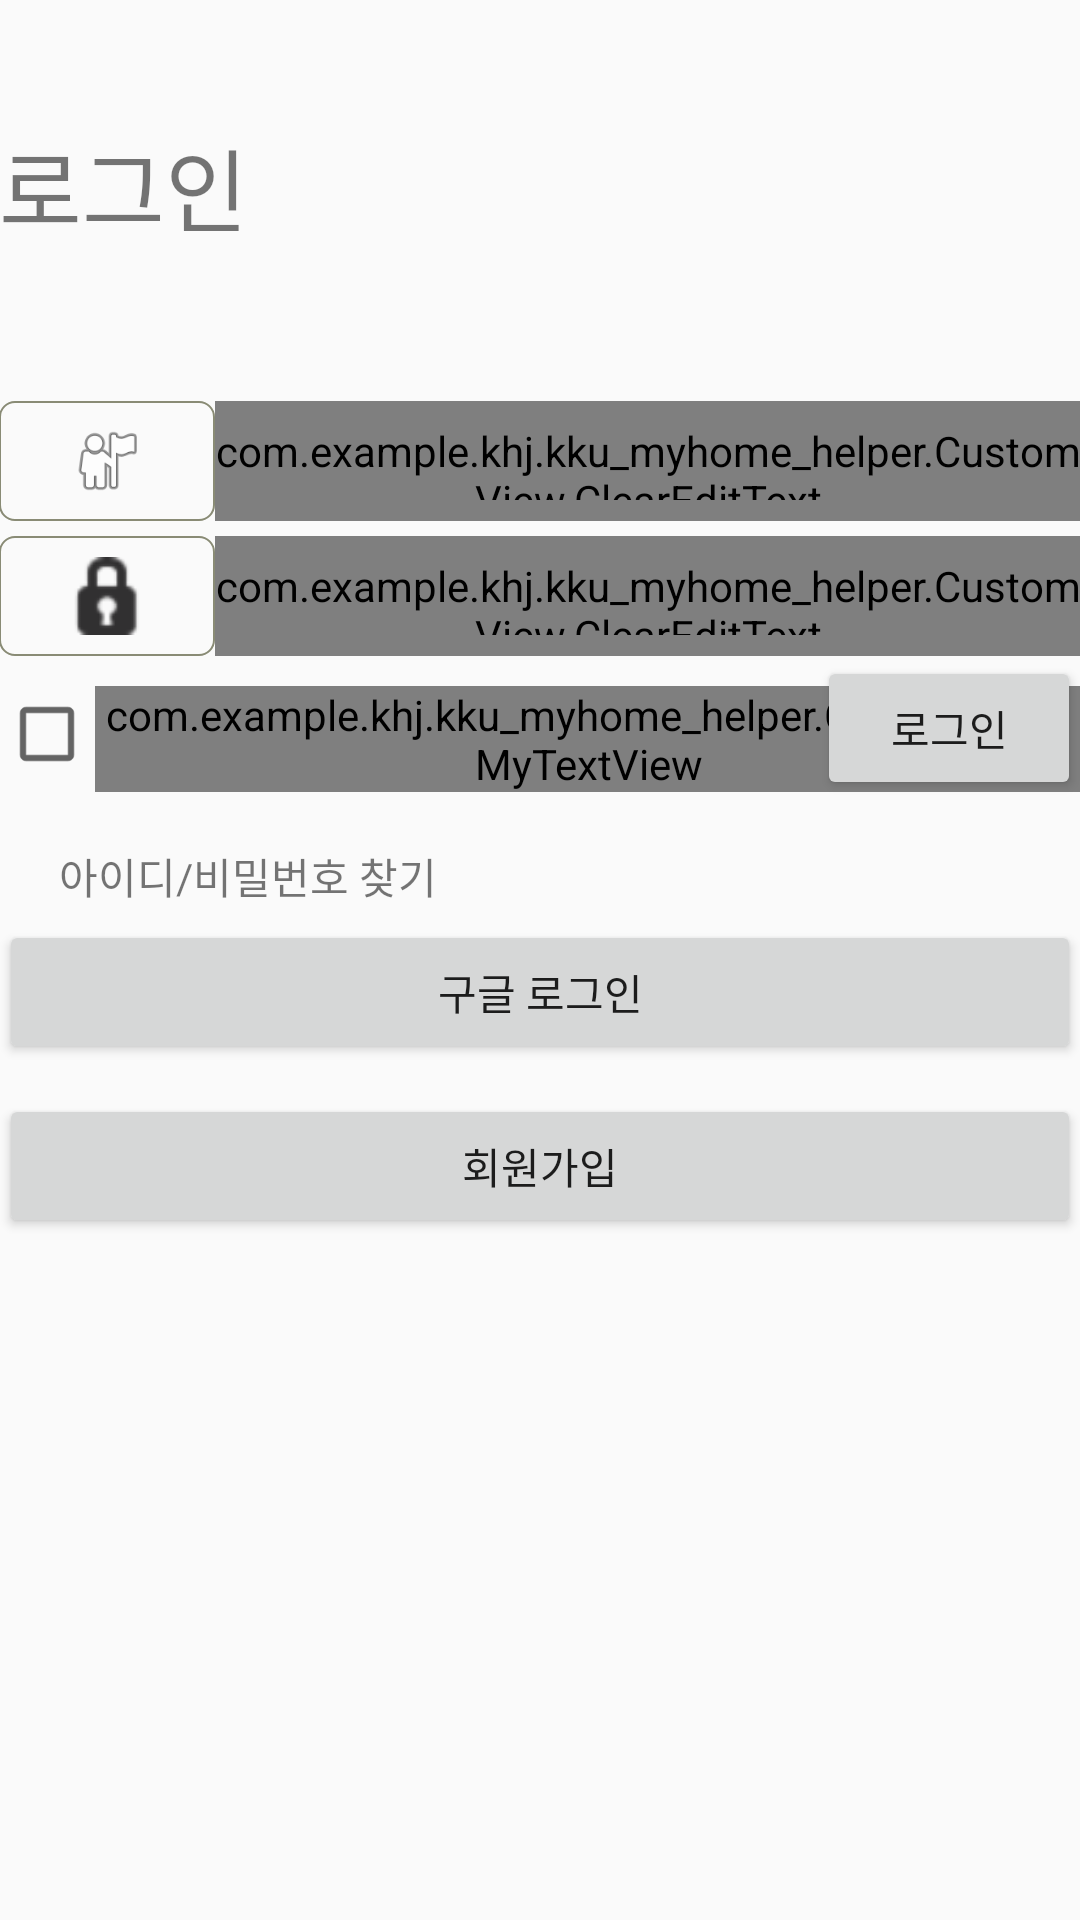

Screen size 1080px×1920px. Icon name, then its center in pixels as point (x, y):
myplaces: point (107, 461)
secure: point (106, 596)
